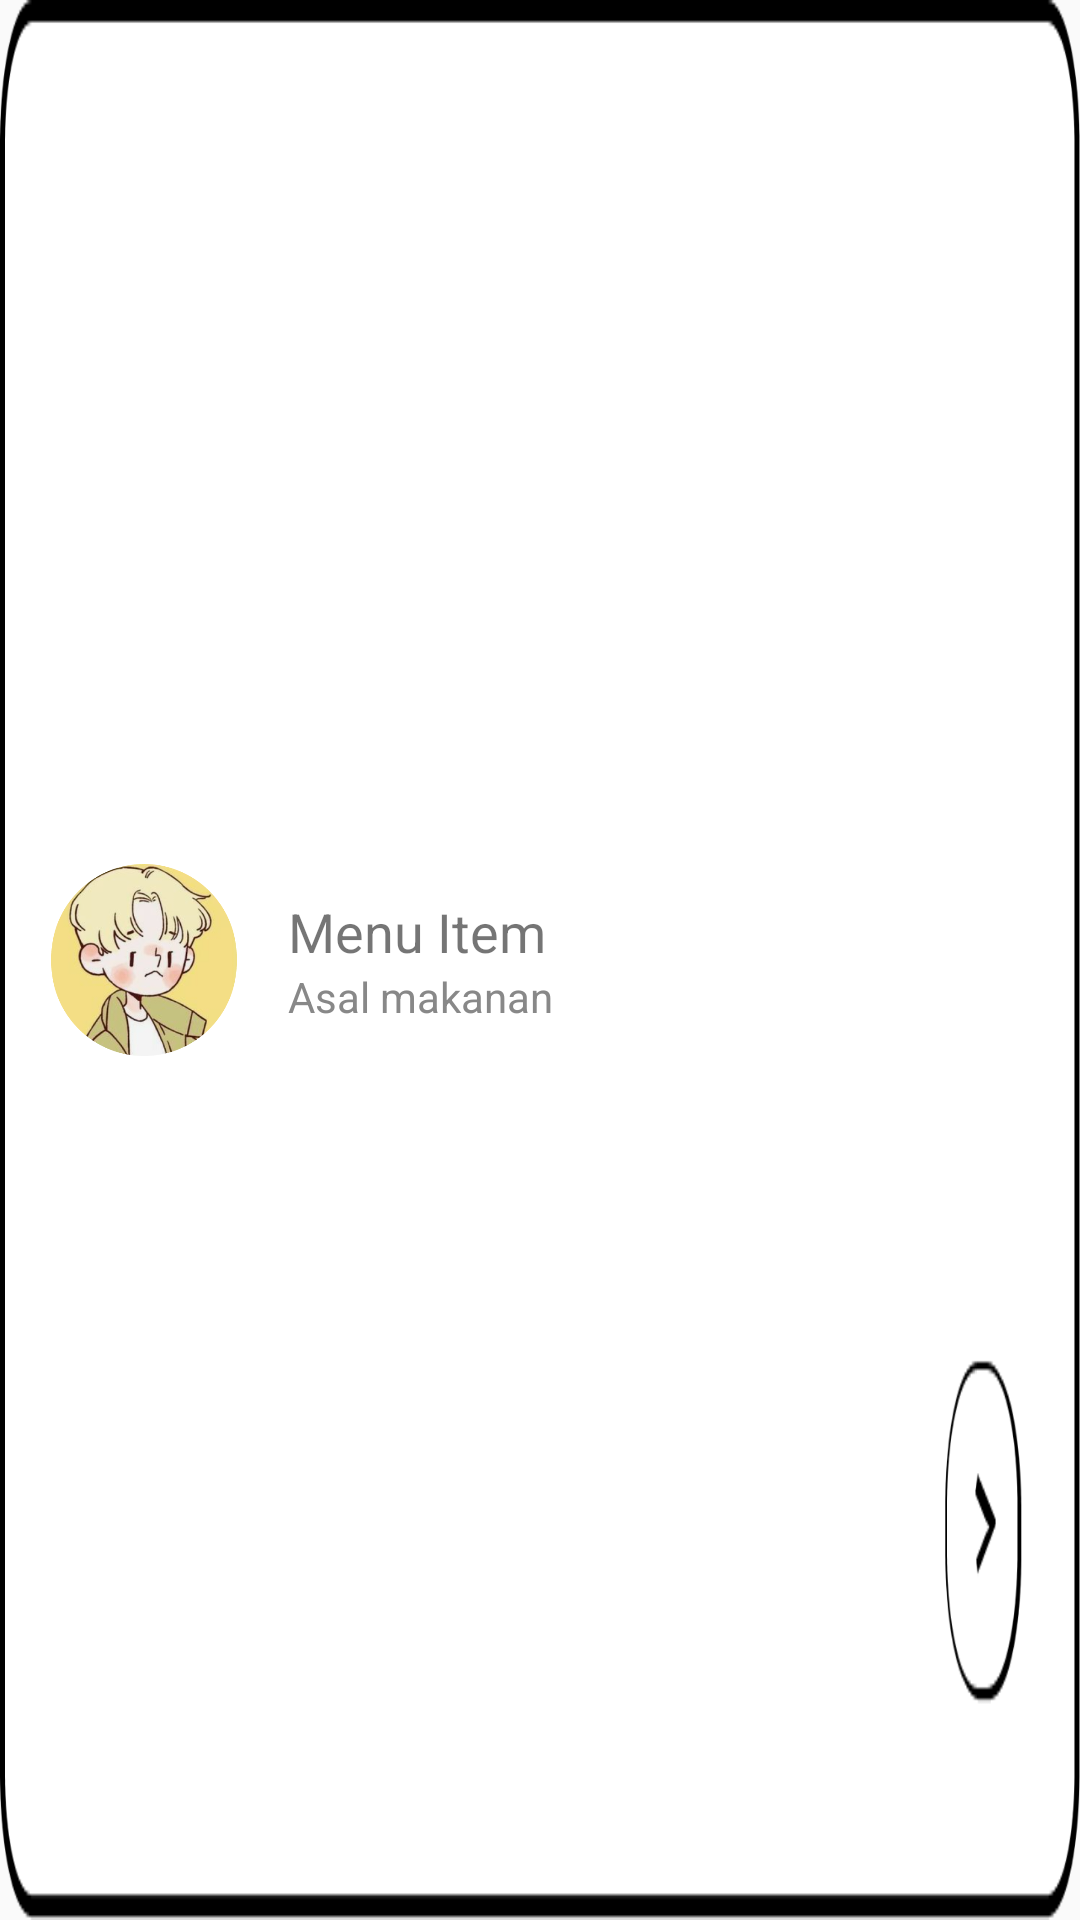

Screen size 1080x1920. Icon name, then its box in pixels as bbox=[x1, y1, x2, y2]:
profile: bbox=[51, 864, 237, 1055]
